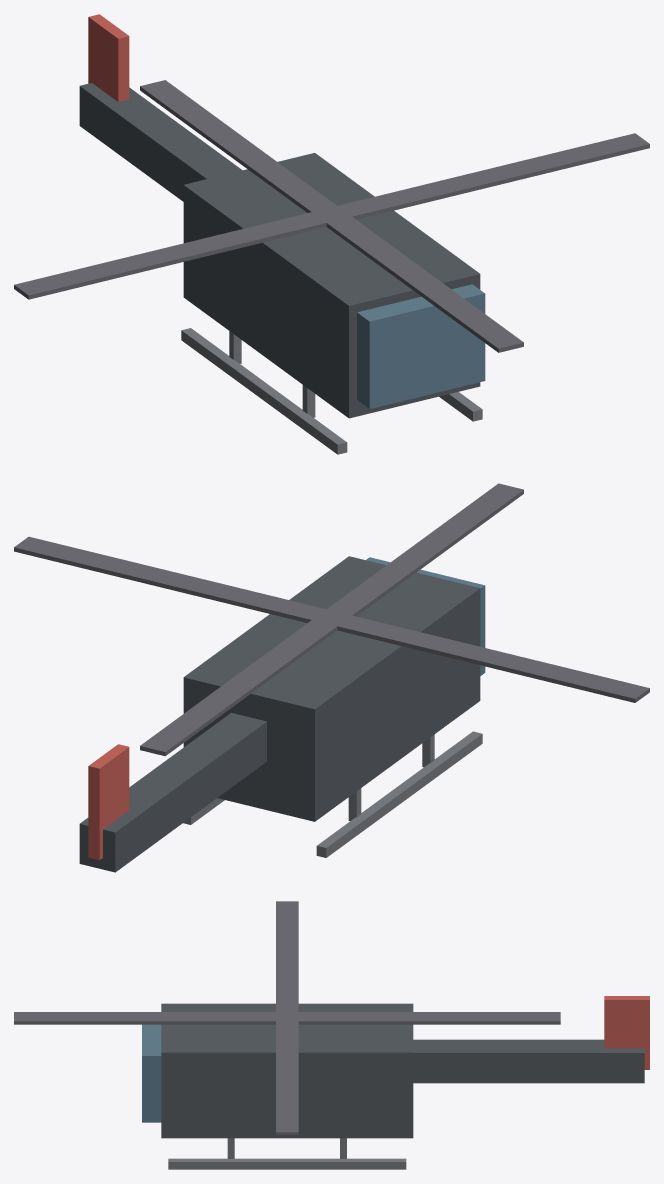
Rendered from vehicle_helicopter.glb.
3 views of the same model, one above another, from view 1: azimuth 30°, elevation 25°; view 2: azimuth 150°, elevation 25°; view 3: azimuth 270°, elevation 25° (orthographic). The views are drawn at different scales.
Visible parts, largest first — view 1: BuzzardChopper; view 2: BuzzardChopper; view 3: BuzzardChopper.
Part boxes in pixels (bbox=[...]): BuzzardChopper: bbox=[14, 14, 649, 454]; BuzzardChopper: bbox=[14, 483, 649, 872]; BuzzardChopper: bbox=[14, 901, 649, 1169].
Bounding box in the file's own units: 7.8 × 2.28 × 9.08.
